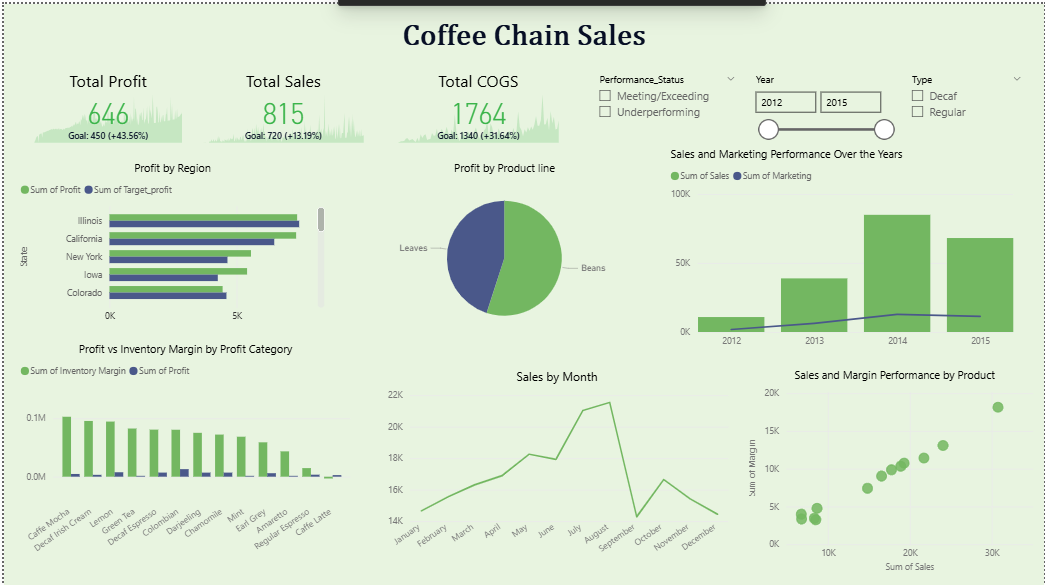

Layout of this report page (visuals, bound fields, positions):
{"tool":"powerbi","page":{"name":"Page 1","canvas":[1280,720],"ordinal":0},"visuals":[{"type":"textbox","box":[0,0,1280,80],"z":0},{"type":"clusteredBarChart","title":"Profit by Region","fields":{"Category":["cleaned_sales.State"],"Y":["Sum(cleaned_sales.Profit)","Sum(cleaned_sales.Target_profit)"]},"box":[16,192,384,208],"z":1000},{"type":"slicer","fields":{"Values":["cleaned_sales.Performance_Status"]},"box":[720,80,192,96],"z":2000},{"type":"scatterChart","title":"Sales and Margin Performance by Product","fields":{"X":["Sum(cleaned_sales.Sales)"],"Y":["Sum(cleaned_sales.Margin)"],"Category":["cleaned_sales.Product"]},"box":[912,448,368,256],"z":3000},{"type":"lineClusteredColumnComboChart","title":"Sales and Marketing Performance Over the Years","fields":{"Y":["Sum(cleaned_sales.Sales)"],"Y2":["Sum(cleaned_sales.Marketing)"],"Category":["cleaned_sales.Year"]},"box":[816,176,432,256],"z":4000},{"type":"slicer","fields":{"Values":["cleaned_sales.Year"]},"box":[912,80,192,96],"z":5000},{"type":"slicer","fields":{"Values":["cleaned_sales.Type"]},"box":[1104,80,160,96],"z":6000},{"type":"clusteredColumnChart","title":"Profit vs Inventory Margin by Profit Category","fields":{"Y":["Sum(cleaned_sales.Inventory Margin)","Sum(cleaned_sales.Profit)"],"Category":["cleaned_sales.Product"]},"box":[16,416,416,272],"z":7000},{"type":"pieChart","title":"Profit by Product line","fields":{"Y":["Sum(cleaned_sales.Profit)"],"Category":["cleaned_sales.Product_line"]},"box":[480,192,272,224],"z":8000},{"type":"kpi","title":"Total Profit","fields":{"Indicator":["Sum(cleaned_sales.Profit)"],"TrendLine":["cleaned_sales.Profit"],"Goal":["Sum(cleaned_sales.Target_profit)"]},"box":[32,80,192,96],"z":9000},{"type":"kpi","title":"Total Sales","fields":{"Indicator":["Sum(cleaned_sales.Sales)"],"Goal":["Sum(cleaned_sales.Target_sales )"],"TrendLine":["cleaned_sales.Sales"]},"box":[240,80,208,96],"z":10000},{"type":"kpi","title":"Total COGS","fields":{"Indicator":["Sum(cleaned_sales.Cogs)"],"Goal":["Sum(cleaned_sales.Target_cogs)"],"TrendLine":["cleaned_sales.Cogs"]},"box":[480,80,208,96],"z":11000},{"type":"lineChart","title":"Sales by Month","fields":{"Category":["cleaned_sales.Date.Variation.Date Hierarchy.Month"],"Y":["Sum(cleaned_sales.Sales)"]},"box":[464,448,432,240],"z":12000}]}

Visuals, with their boxes in screenshot pixels (x1, y1, x2, y2), scaled from the page's 1280x720 canvas onto the 1045x585 screenshot:
textbox: 0, 0, 1044, 65
"Profit by Region" clusteredBarChart: 13, 156, 327, 325
slicer - cleaned_sales.Performance_Status: 588, 65, 745, 143
"Sales and Margin Performance by Product" scatterChart: 745, 364, 1044, 572
"Sales and Marketing Performance Over the Years" lineClusteredColumnComboChart: 666, 143, 1019, 351
slicer - cleaned_sales.Year: 745, 65, 901, 143
slicer - cleaned_sales.Type: 901, 65, 1032, 143
"Profit vs Inventory Margin by Profit Category" clusteredColumnChart: 13, 338, 353, 559
"Profit by Product line" pieChart: 392, 156, 614, 338
"Total Profit" kpi: 26, 65, 183, 143
"Total Sales" kpi: 196, 65, 366, 143
"Total COGS" kpi: 392, 65, 562, 143
"Sales by Month" lineChart: 379, 364, 732, 559
